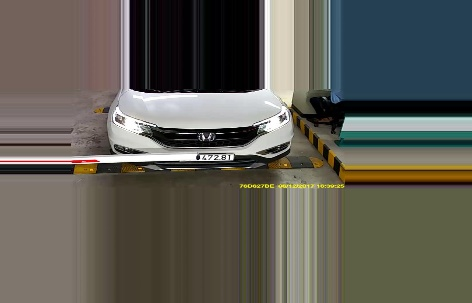plate: (196, 149, 235, 165)
